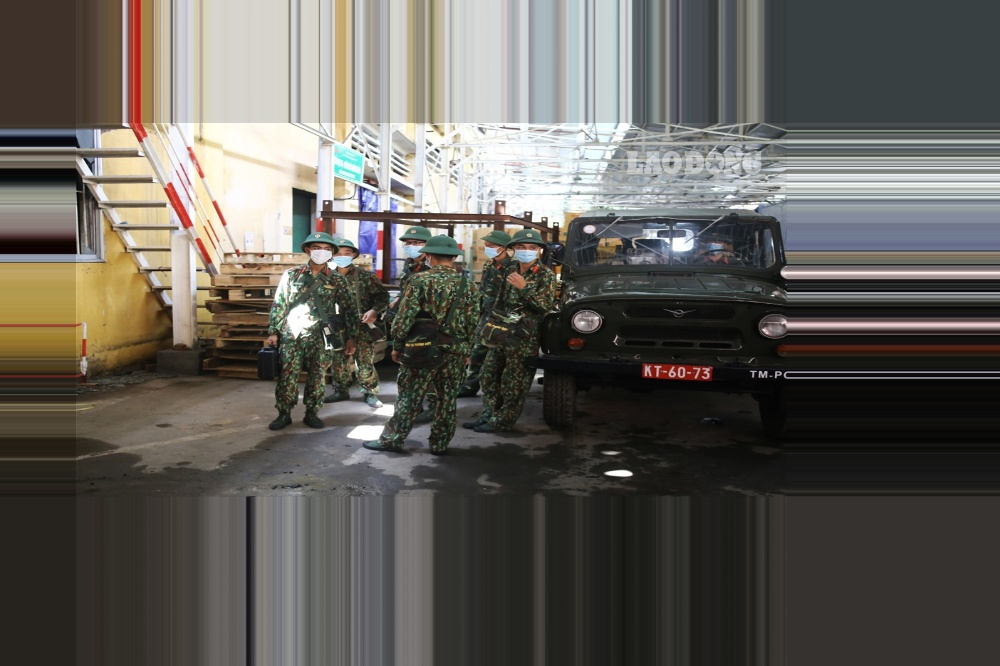plate: (637, 359, 716, 385)
